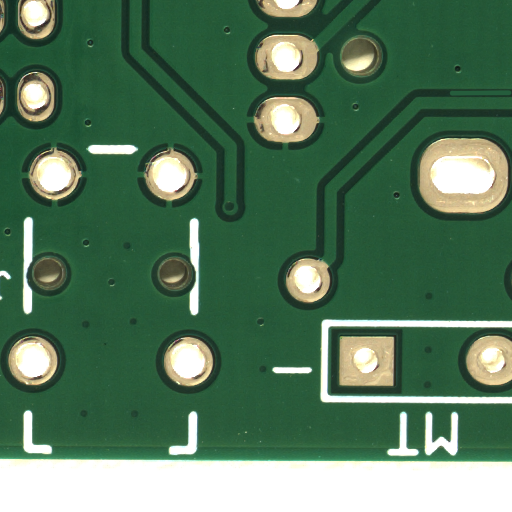Spurious_copper: (480, 93, 512, 100)
